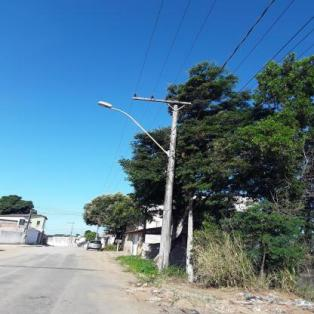Poste: (153, 96, 182, 276)
